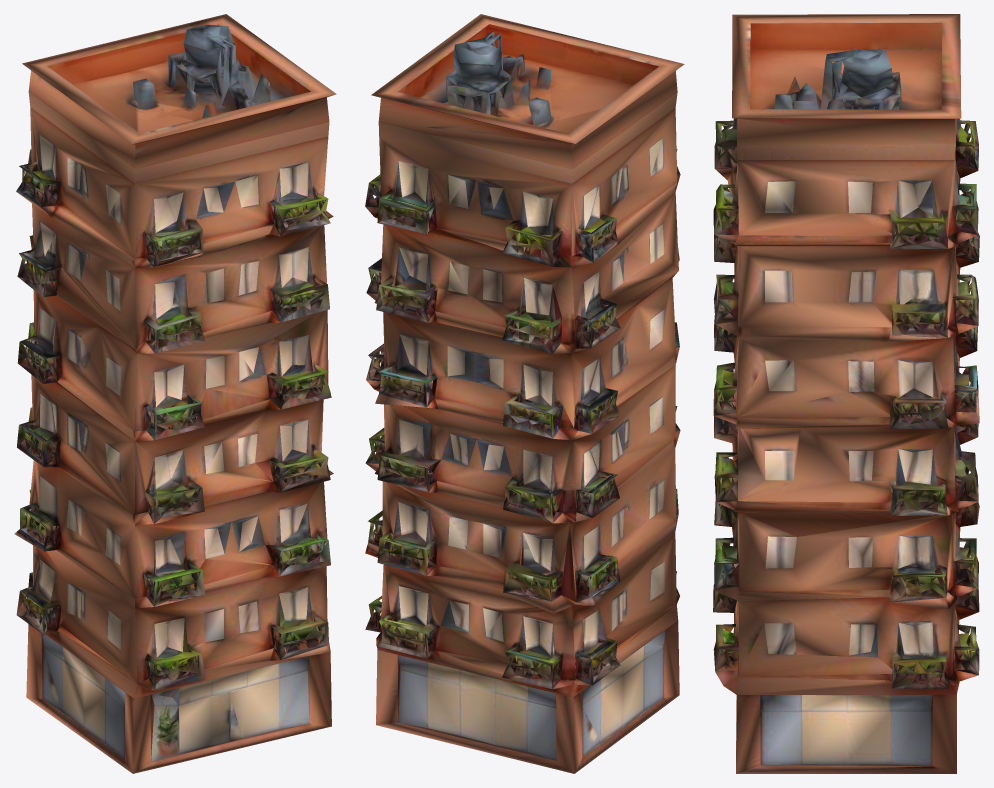
The model's file is menara-3.glb.
The picture shows the model from 3 angles, left to right: view 1: azimuth 30°, elevation 25°; view 2: azimuth 150°, elevation 25°; view 3: azimuth 270°, elevation 25°; orthographic projection. The views are drawn at different scales.
Visible parts, largest first — view 1: node_0; view 2: node_0; view 3: node_0.
Boxes of the visible parts, x1,y1,x2,y2 form: node_0: (14,14,336,773); node_0: (365,14,684,773); node_0: (713,14,979,773).
Bounding box in the file's own units: 0.3985 × 1.1 × 0.3856.
Materials: 1 (1 with a texture image).
